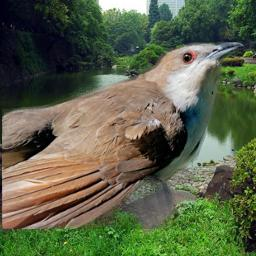Cuckoo: (2, 42, 244, 229)
